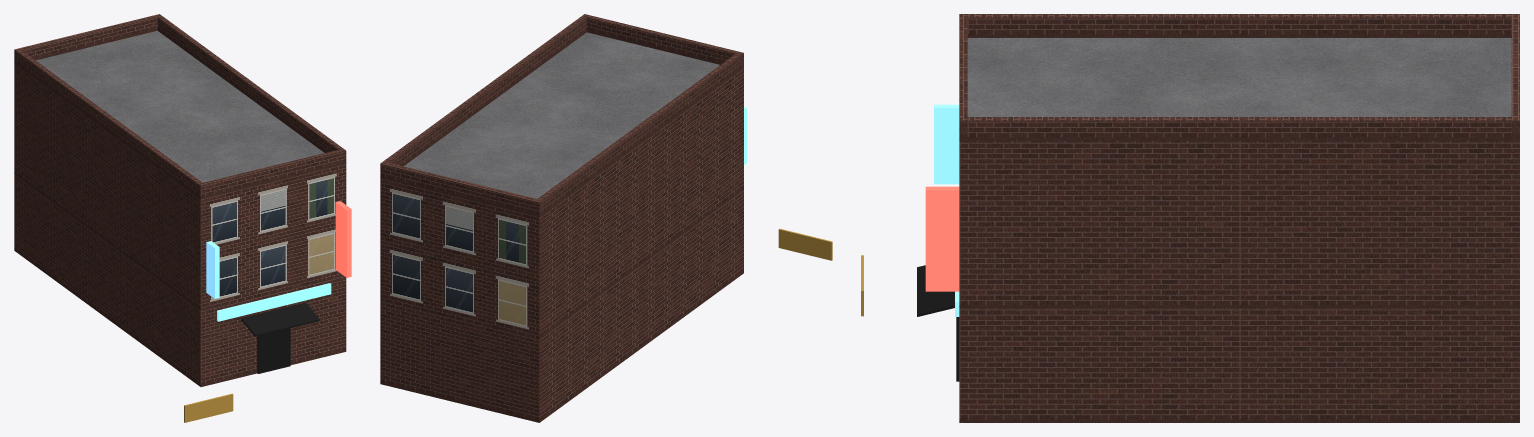
The model's file is 070_nightclub.glb.
3 renders of one model, left to right at view 1: azimuth 30°, elevation 25°; view 2: azimuth 150°, elevation 25°; view 3: azimuth 270°, elevation 25°, orthographic. The views are drawn at different scales.
Visible parts, largest first — view 1: 070_nightclub; view 2: 070_nightclub; view 3: 070_nightclub.
Part boxes in pixels (x1,y1,x2,y2): 070_nightclub: (14, 14, 351, 422); 070_nightclub: (380, 14, 832, 422); 070_nightclub: (861, 14, 1519, 422).
Bounding box in the file's own units: 12 × 11.9 × 23.5.
Materials: 8 (3 with a texture image).
